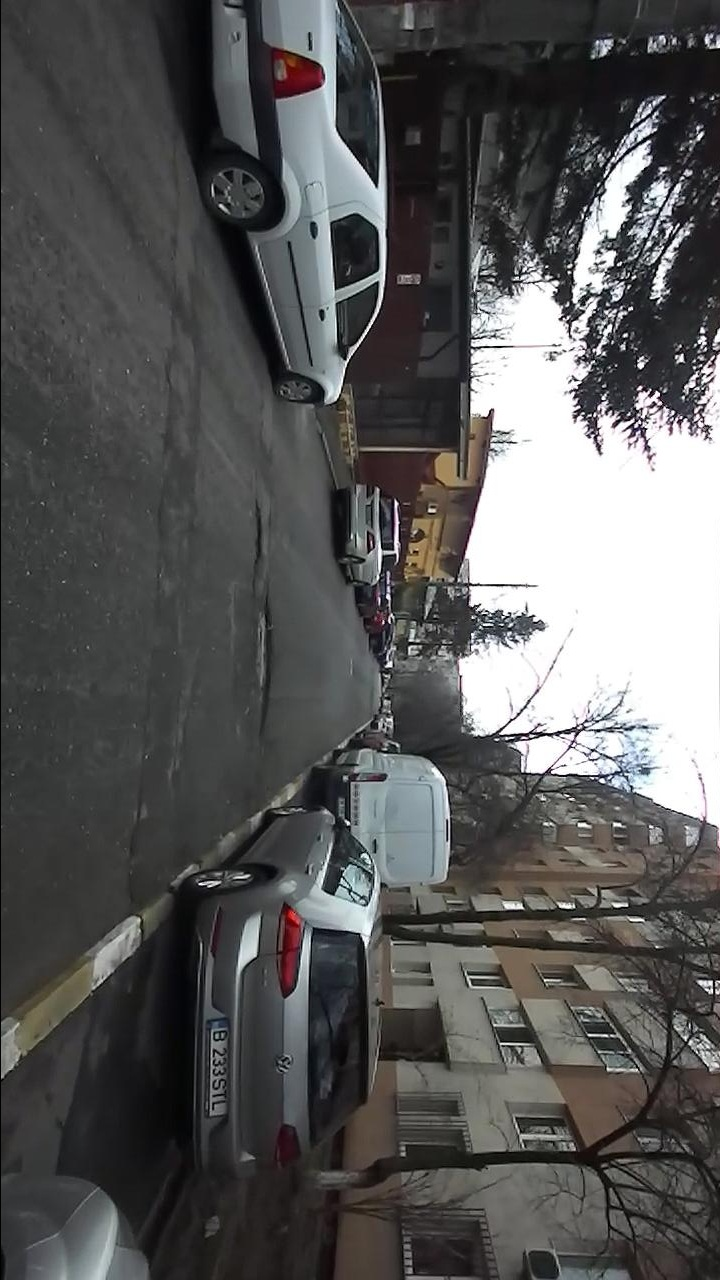pothole: (250, 590, 275, 739), (116, 793, 145, 904), (251, 497, 265, 582)
